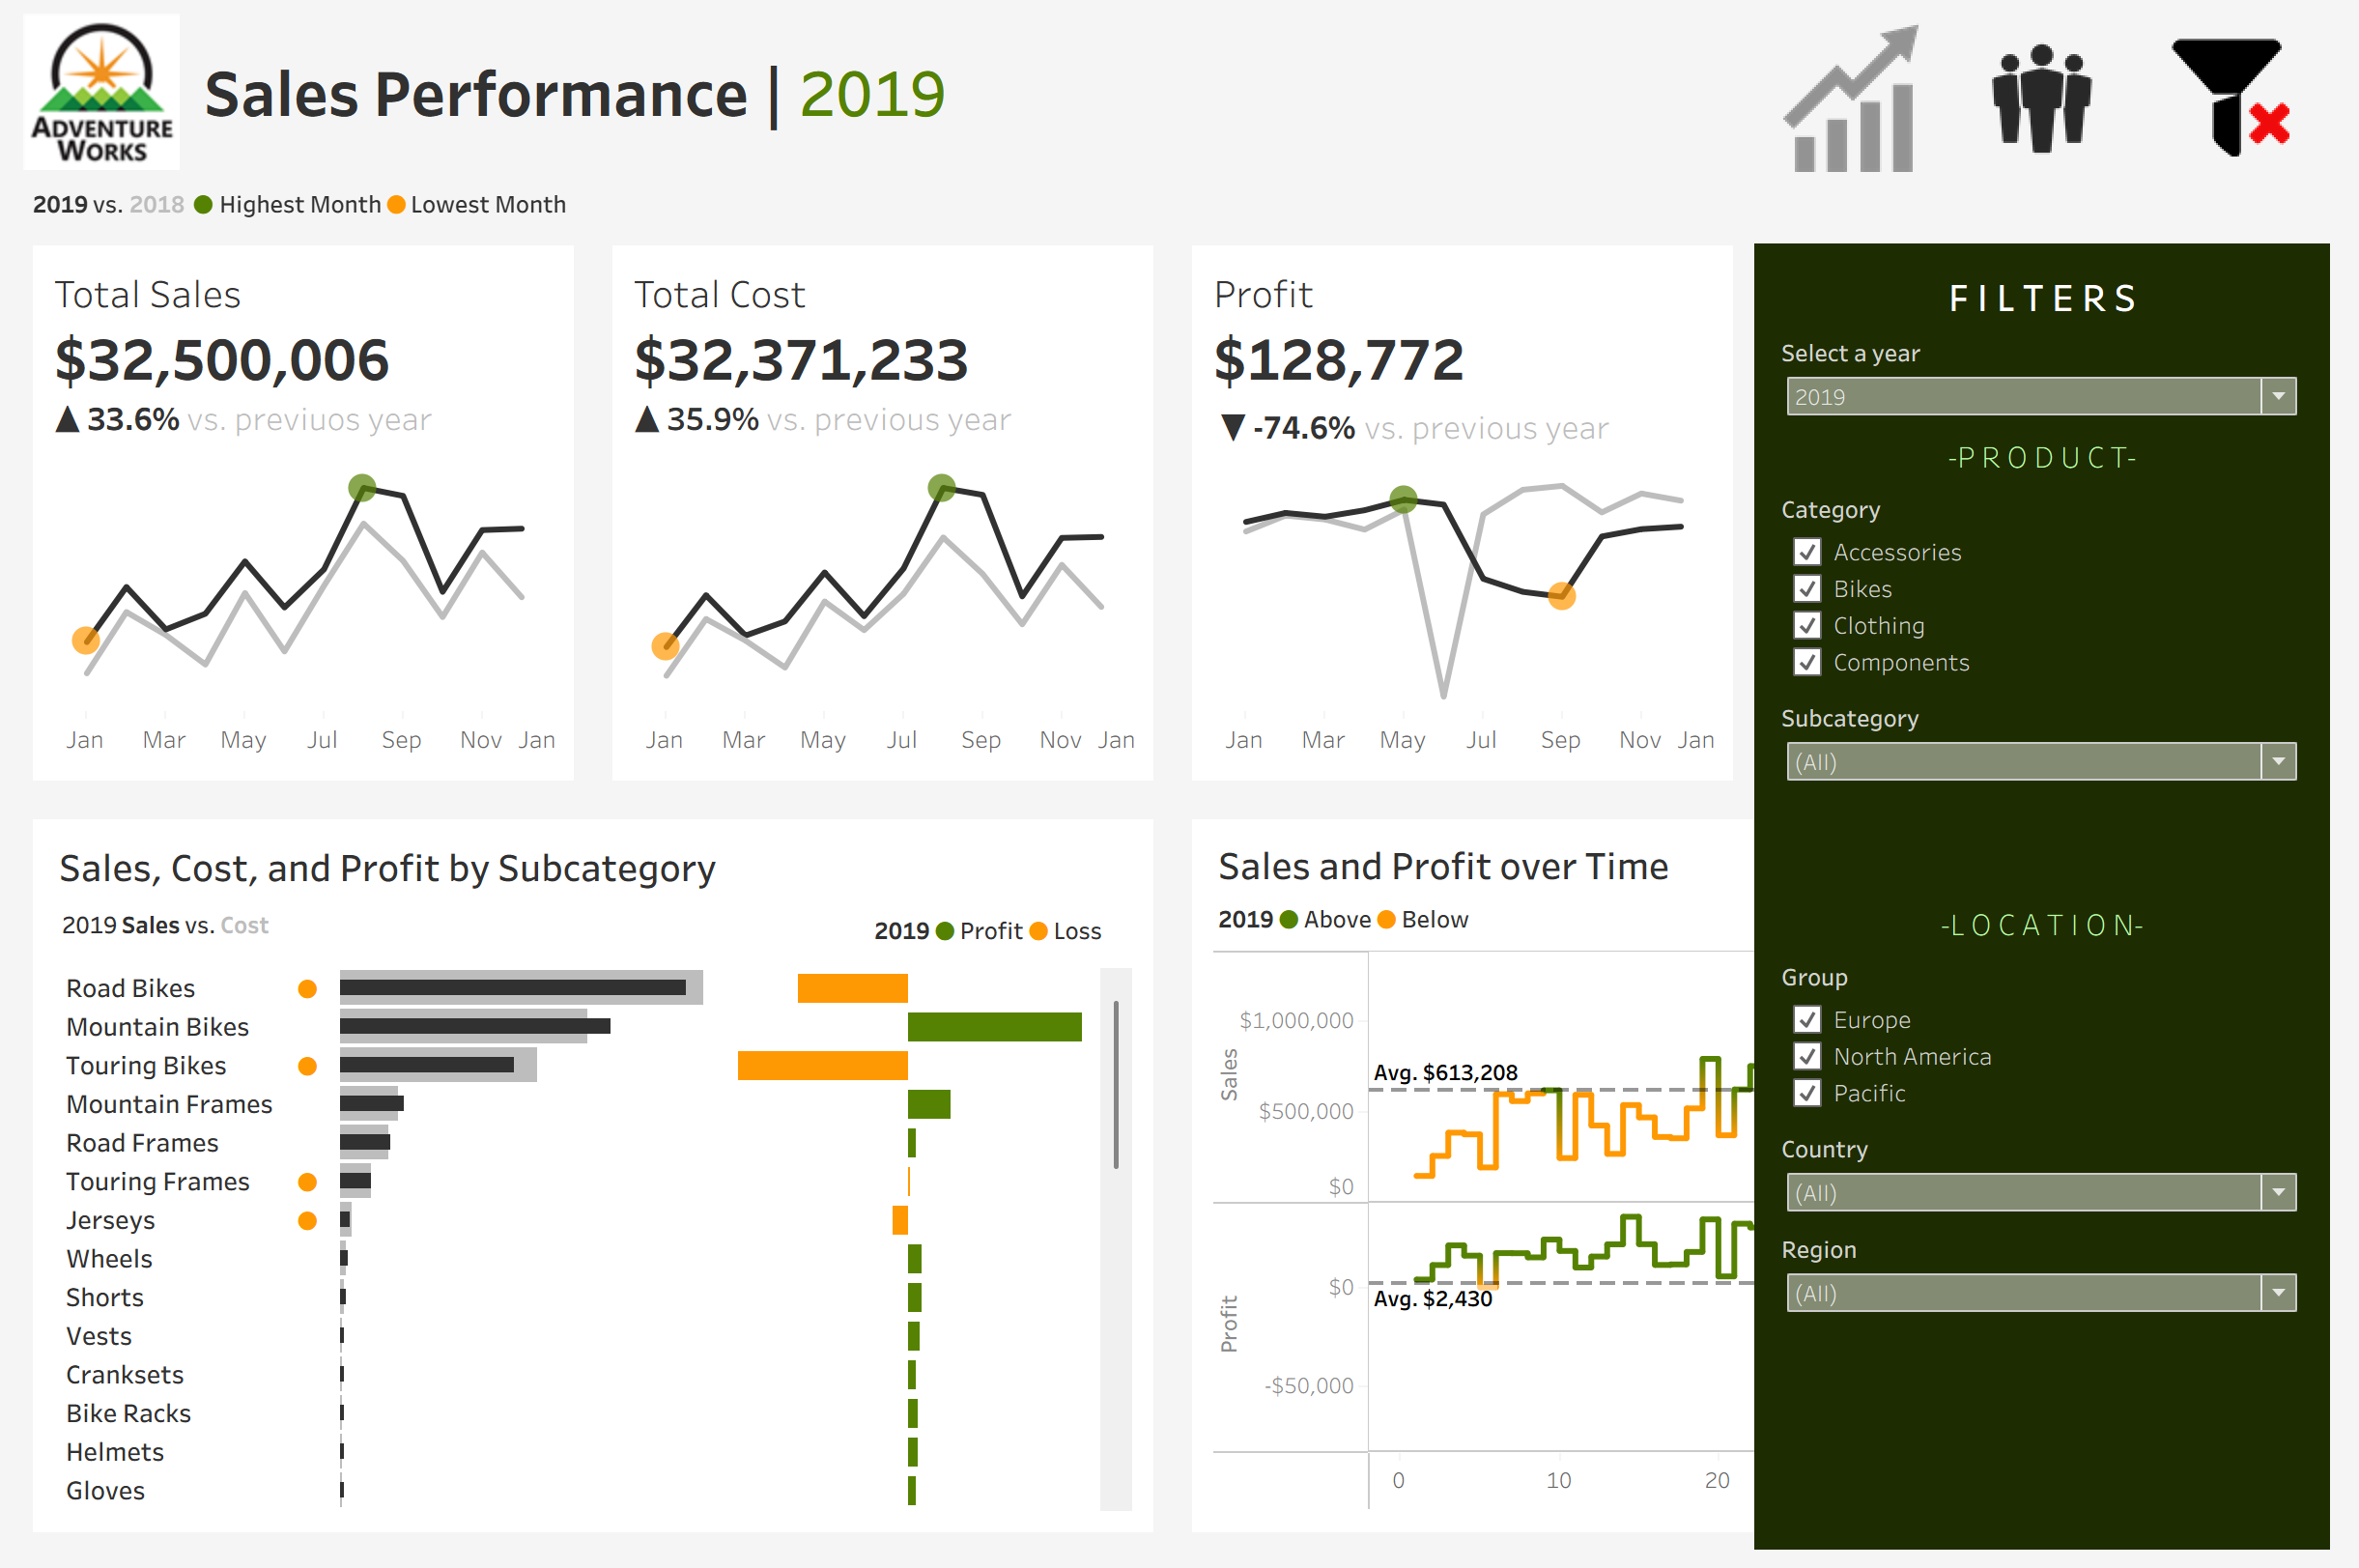

The dashboard page shown, as its layout file describes it:
{"tool":"tableau","page":{"name":"Sales Performance","canvas":[1200,800],"ordinal":0},"visuals":[{"type":"image","param":"Image/adventure-works-logo-150x150.png","box":[0,0,92,89]},{"type":"text","box":[92,0,810,89]},{"type":"dashboard-object","box":[901,3,99,89]},{"type":"dashboard-object","box":[1000,3,99,89]},{"type":"dashboard-object","box":[1099,3,98,89]},{"type":"worksheet","title":"KPI Legend","mark":"Automatic","box":[0,89,1200,35]},{"type":"worksheet","title":"KPI TotalSales","mark":"Automatic","rows":["Calculation_637822321673912324"],"cols":["OrderDate"],"box":[0,124,300,287]},{"type":"worksheet","title":"KPI TotalCost","mark":"Automatic","rows":["Min/Max Quantity (copy)_321725925577129986"],"cols":["OrderDate"],"box":[300,124,300,287]},{"type":"worksheet","title":"KPI Profit","mark":"Automatic","rows":["Calculation_1086211960203542535"],"cols":["OrderDate"],"box":[600,124,300,287]},{"type":"worksheet","title":"KPI TotalQuantity","mark":"Automatic","rows":["Min/Max Sales (copy)_1086211960215871503"],"cols":["OrderDate"],"box":[900,124,300,287]},{"type":"text","box":[911,133,278,34]},{"type":"parameter","param":"[Parameters].[Parameter 1]","box":[911,167,278,52]},{"type":"text","box":[911,219,278,29]},{"type":"filter","title":"KPI TotalSales","param":"[federated.19656wq0sp28k8121jykm1is45cl].[none:Category:nk]","box":[911,248,278,108]},{"type":"filter","title":"KPI TotalSales","param":"[federated.19656wq0sp28k8121jykm1is45cl].[none:Subcategory:nk]","box":[911,356,278,52]},{"type":"blank","box":[911,408,278,53]},{"type":"text","box":[17,428,566,34]},{"type":"text","box":[617,428,566,32]},{"type":"text","box":[617,460,566,25]},{"type":"text","box":[911,461,278,29]},{"type":"worksheet","title":"Chart Legend","mark":"Automatic","box":[17,462,422,32]},{"type":"text","box":[439,462,144,32]},{"type":"worksheet","title":"Sales&Profit Trends","mark":"Automatic","rows":["Calculation_637822321648697344","Calculation_1086211960186269697"],"cols":["OrderDate"],"box":[617,485,566,298]},{"type":"filter","title":"KPI TotalSales","param":"[federated.19656wq0sp28k8121jykm1is45cl].[none:Group:nk]","box":[911,490,278,89]},{"type":"worksheet","title":"Subcategories","mark":"Bar","rows":["Subcategory","Calculation_321725925611114503"],"cols":["Current Year Cost (copy)_321725925613584392","Calculation_637822321648697344","Calculation_1086211960186269697"],"box":[17,494,566,289]},{"type":"filter","title":"KPI TotalSales","param":"[federated.19656wq0sp28k8121jykm1is45cl].[none:Country:nk]","box":[911,579,278,52]},{"type":"filter","title":"KPI TotalSales","param":"[federated.19656wq0sp28k8121jykm1is45cl].[none:Region:nk]","box":[911,631,278,52]}]}

Visuals, with their boxes in screenshot pixels (x1, y1, x2, y2), scaled from the page's 1200x800 canvas onto the 2359x1568 screenshot:
image: (left=0, top=0, right=181, bottom=175)
text: (left=181, top=0, right=1774, bottom=175)
dashboard-object: (left=1772, top=6, right=1966, bottom=181)
dashboard-object: (left=1966, top=6, right=2160, bottom=181)
dashboard-object: (left=2160, top=6, right=2353, bottom=181)
"KPI Legend" worksheet: (left=0, top=175, right=2358, bottom=243)
"KPI TotalSales" worksheet: (left=0, top=243, right=589, bottom=806)
"KPI TotalCost" worksheet: (left=589, top=243, right=1179, bottom=806)
"KPI Profit" worksheet: (left=1179, top=243, right=1770, bottom=806)
"KPI TotalQuantity" worksheet: (left=1770, top=243, right=2358, bottom=806)
text: (left=1791, top=261, right=2338, bottom=328)
parameter: (left=1791, top=328, right=2338, bottom=429)
text: (left=1791, top=429, right=2338, bottom=486)
"KPI TotalSales" filter: (left=1791, top=486, right=2338, bottom=698)
"KPI TotalSales" filter: (left=1791, top=698, right=2338, bottom=800)
blank: (left=1791, top=800, right=2338, bottom=903)
text: (left=34, top=839, right=1146, bottom=905)
text: (left=1213, top=839, right=2325, bottom=901)
text: (left=1213, top=901, right=2325, bottom=951)
text: (left=1791, top=903, right=2338, bottom=960)
"Chart Legend" worksheet: (left=34, top=905, right=863, bottom=968)
text: (left=863, top=905, right=1146, bottom=968)
"Sales&Profit Trends" worksheet: (left=1213, top=951, right=2325, bottom=1535)
"KPI TotalSales" filter: (left=1791, top=960, right=2338, bottom=1135)
"Subcategories" worksheet (Bar marks): (left=34, top=968, right=1146, bottom=1535)
"KPI TotalSales" filter: (left=1791, top=1135, right=2338, bottom=1237)
"KPI TotalSales" filter: (left=1791, top=1237, right=2338, bottom=1339)
